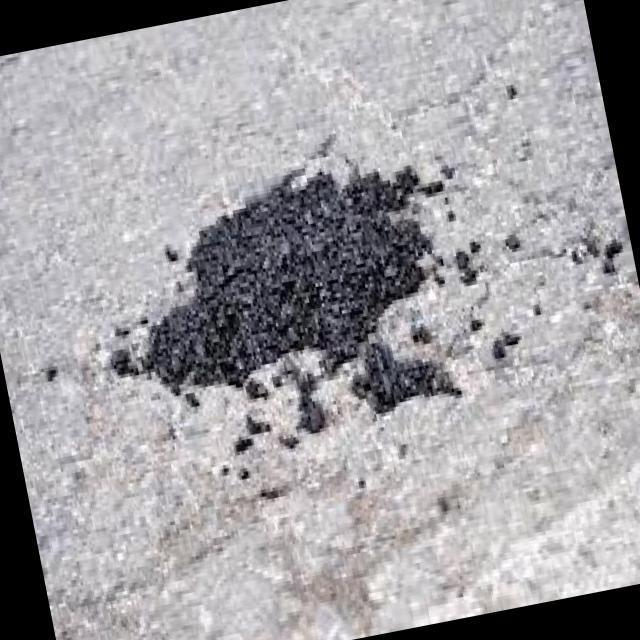Pothole: (107, 165, 440, 434)
